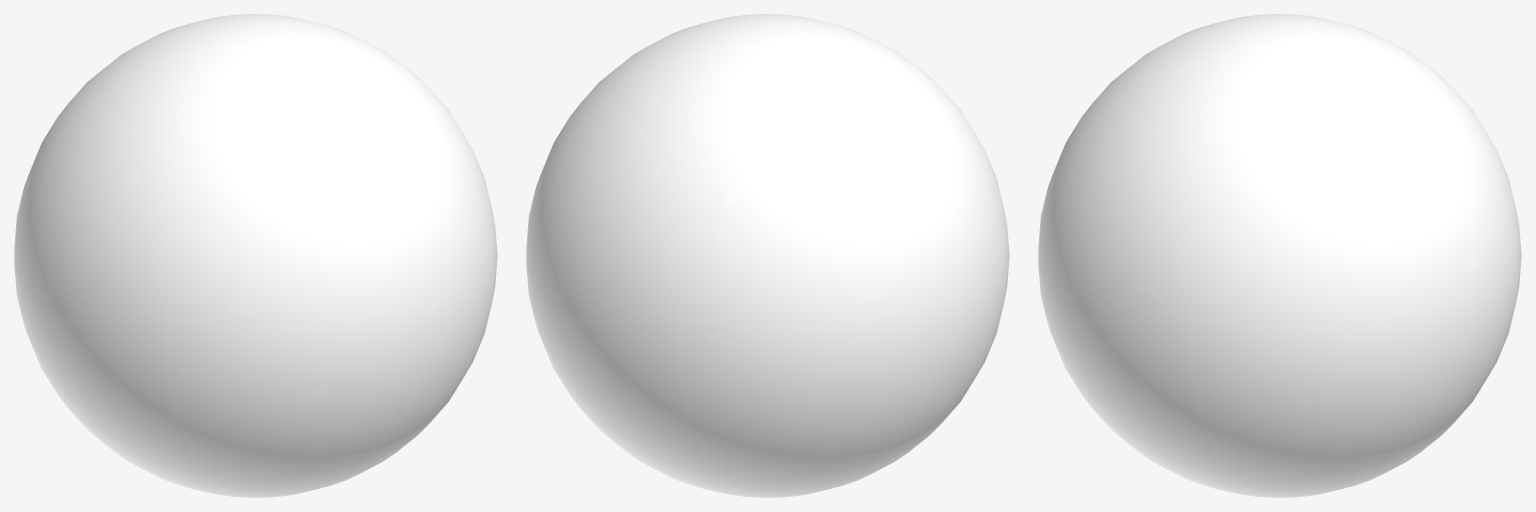
The model's file is coruscant.glb.
The picture shows the model from 3 angles, left to right: view 1: azimuth 30°, elevation 25°; view 2: azimuth 150°, elevation 25°; view 3: azimuth 270°, elevation 25°; orthographic projection.
Parts seen in each view (by area): view 1: clouds; view 2: clouds; view 3: clouds.
Boxes of the visible parts, box(x1,y1,x2,y2) form: clouds: box(14, 14, 497, 497); clouds: box(526, 14, 1009, 497); clouds: box(1038, 14, 1521, 497).
Bounding box in the file's own units: 202 × 202 × 202.
2 materials, 2 textured.
